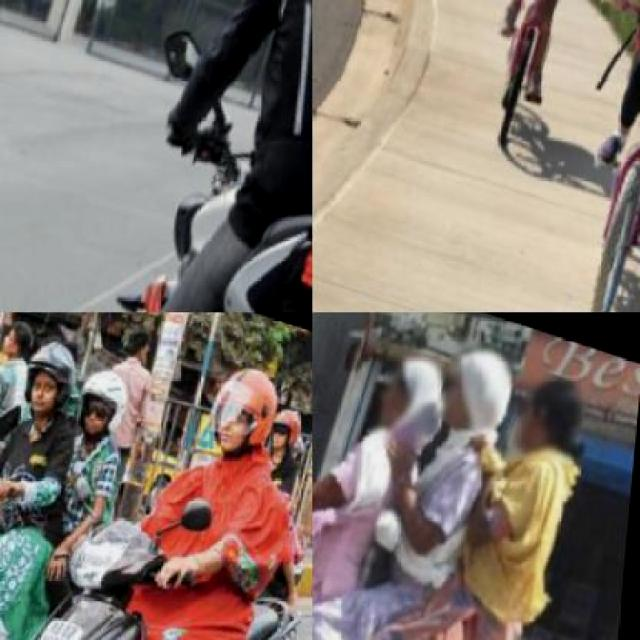With Helmet: (194, 338, 301, 468), (13, 323, 93, 426), (70, 357, 135, 438), (263, 389, 311, 458)
Without Helmet: (366, 336, 452, 446), (434, 322, 520, 428), (511, 352, 597, 458)
